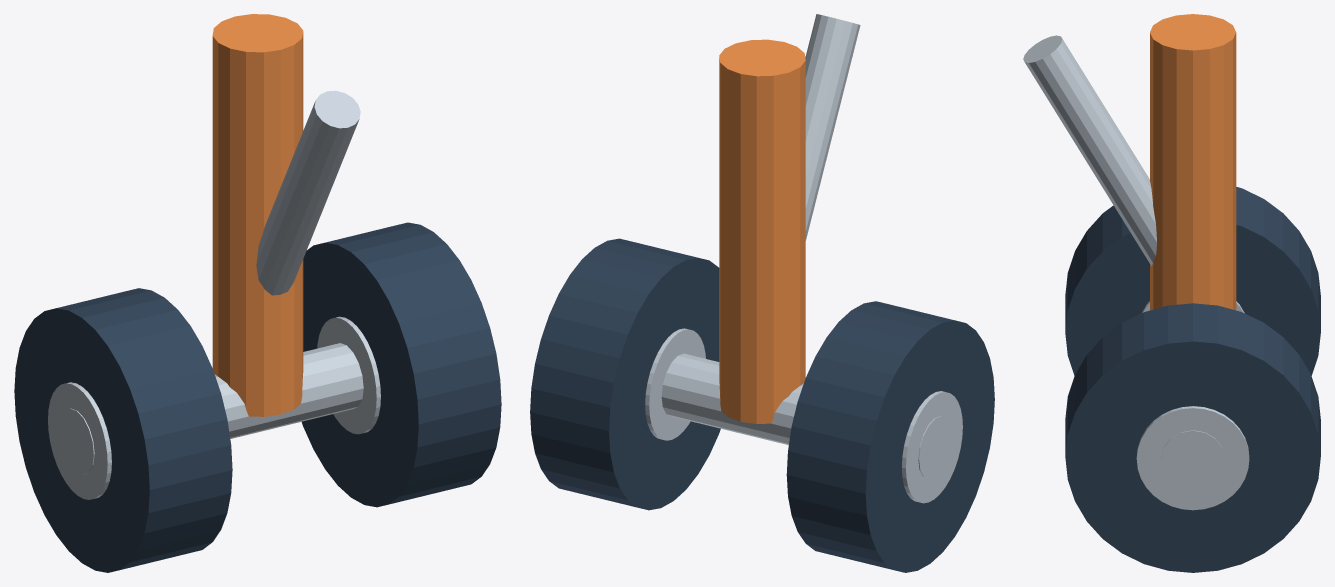
Rendered from landing-gear.glb.
The picture shows the model from 3 angles, left to right: view 1: azimuth 30°, elevation 25°; view 2: azimuth 150°, elevation 25°; view 3: azimuth 270°, elevation 25°; orthographic projection. The views are drawn at different scales.
Bounding box in the file's own units: 2.1 × 2.7 × 1.58.
